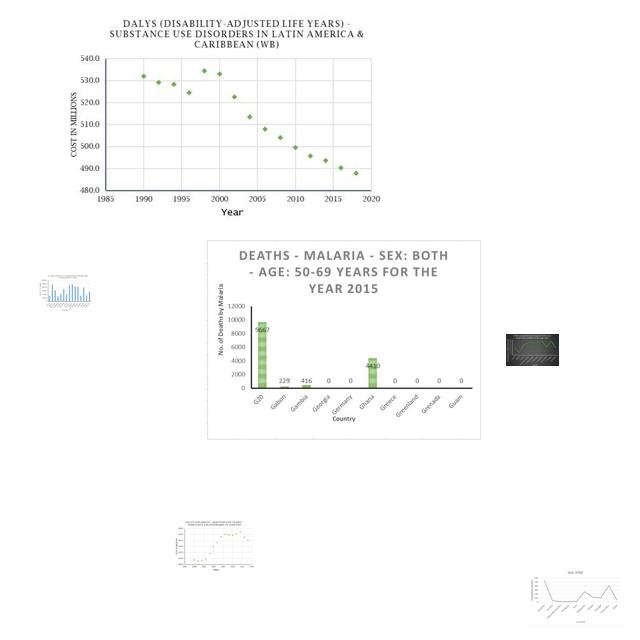Graph: (64, 15, 384, 221), (206, 240, 481, 440), (527, 568, 624, 627), (174, 520, 255, 572), (38, 274, 92, 312), (506, 334, 559, 366)
